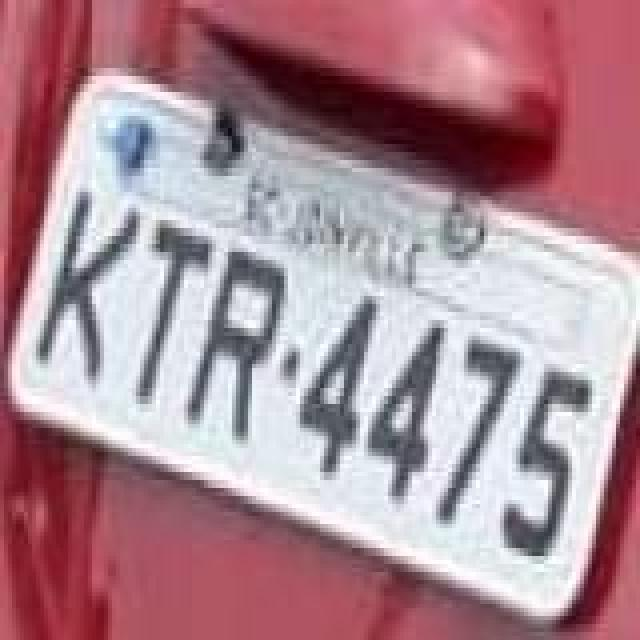4: (296, 288, 384, 480), (364, 312, 452, 504)
5: (496, 360, 592, 560)
7: (434, 332, 526, 532)
K: (32, 184, 144, 392)
R: (182, 246, 290, 442)
T: (136, 216, 216, 408)
